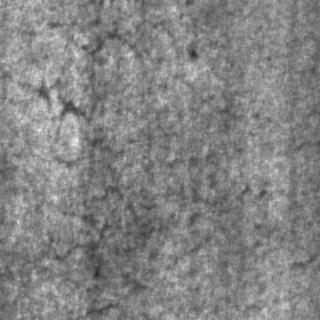crazing: (42, 144, 260, 280), (30, 13, 150, 131)
